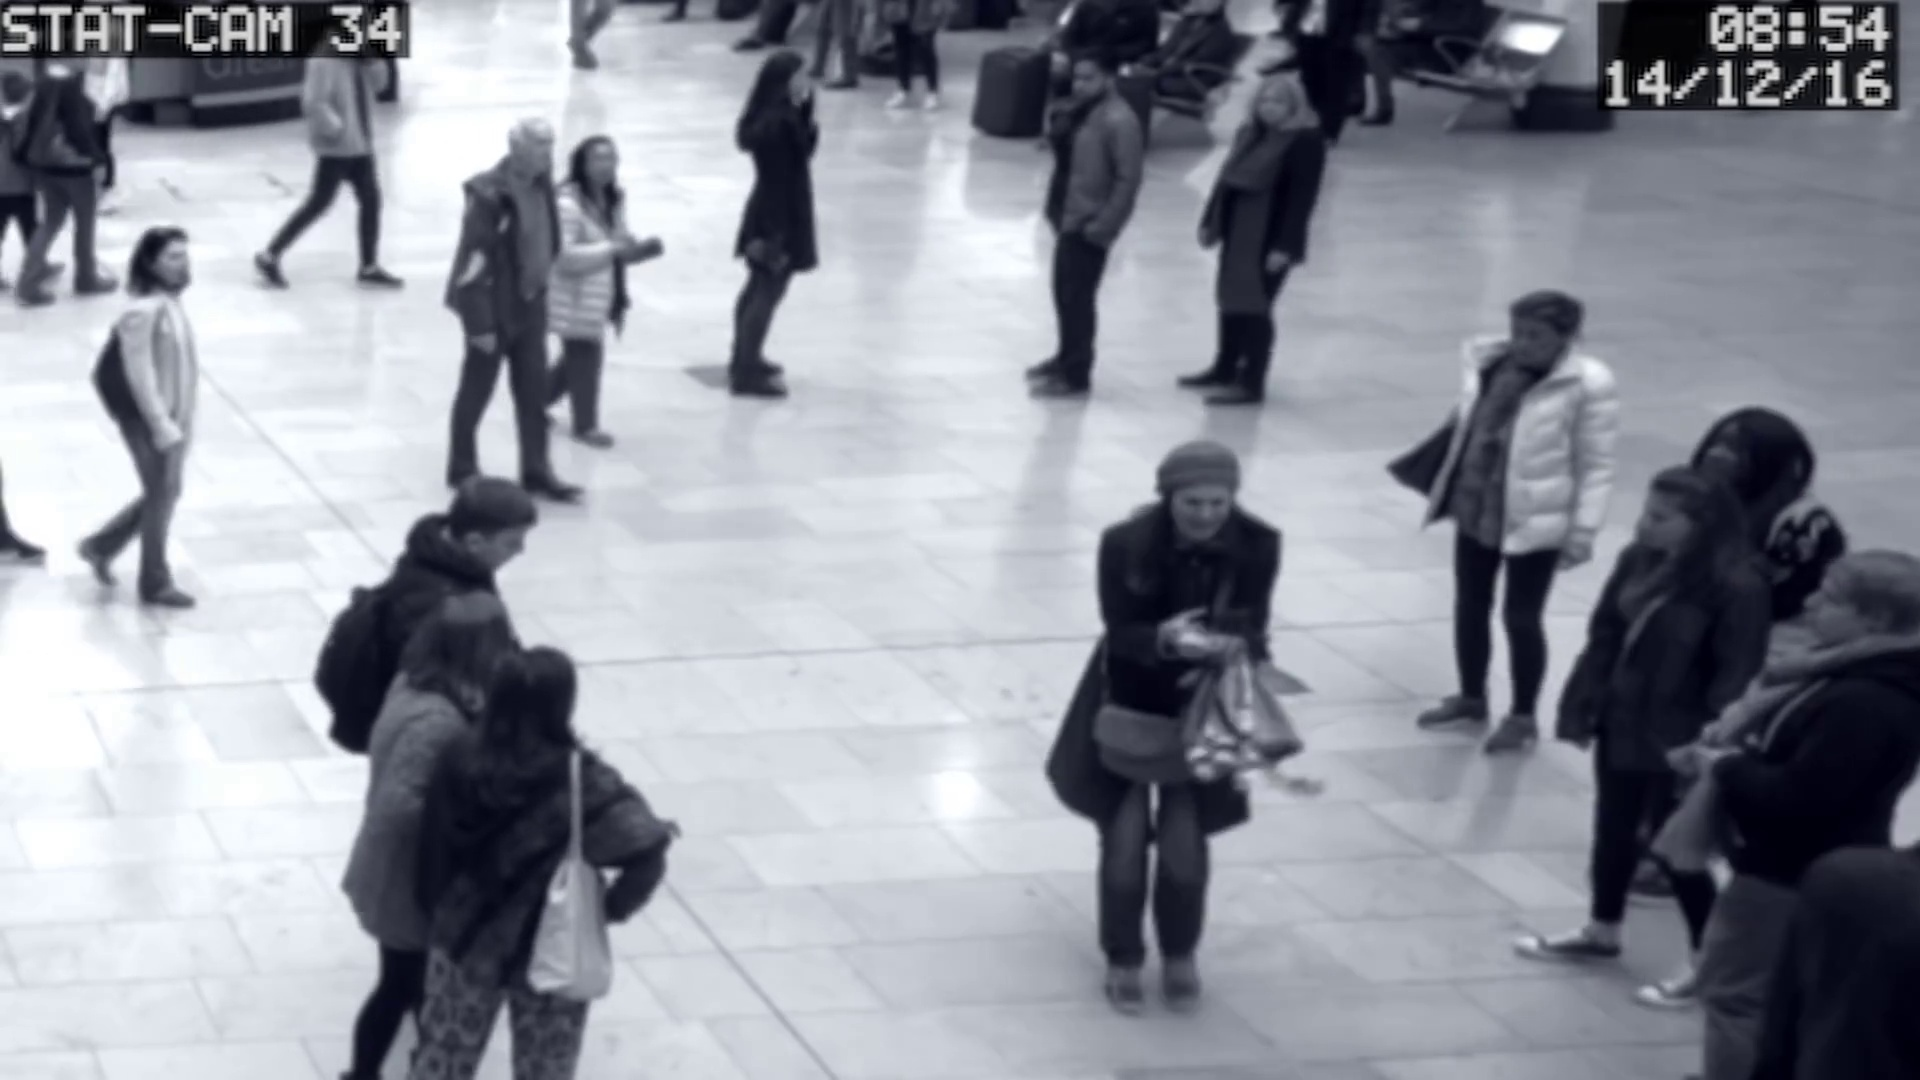face: (1631, 487, 1703, 556), (1169, 465, 1232, 543), (148, 232, 192, 295), (1511, 314, 1559, 370), (1244, 81, 1295, 131), (506, 125, 553, 179), (581, 141, 625, 188), (1065, 62, 1103, 109)
